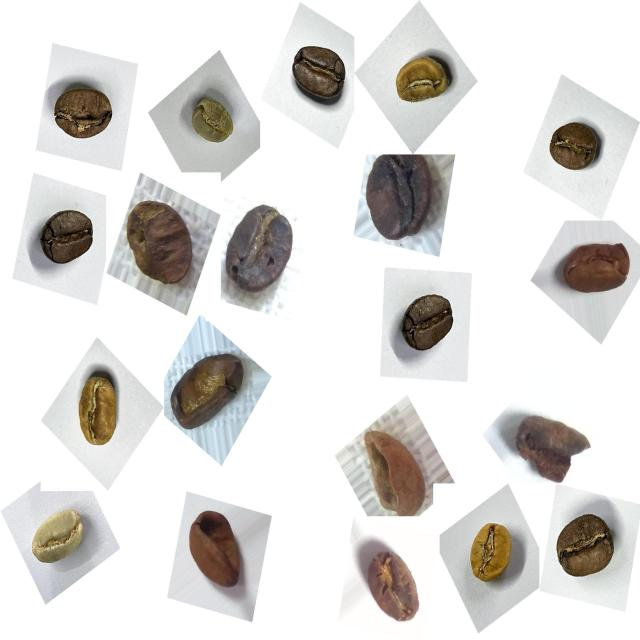bad: (220, 197, 306, 305), (358, 150, 449, 252), (166, 342, 254, 444), (118, 191, 200, 293), (355, 421, 430, 526), (179, 501, 256, 602), (510, 401, 596, 490), (356, 534, 430, 632), (553, 230, 637, 312)
dark: (393, 282, 467, 368), (31, 194, 102, 278), (282, 32, 353, 114)
green: (22, 498, 95, 580), (182, 88, 244, 156)
light: (62, 362, 129, 458), (458, 514, 524, 599), (387, 46, 458, 120)
medium: (548, 504, 627, 592), (46, 75, 124, 155), (540, 111, 606, 182)
